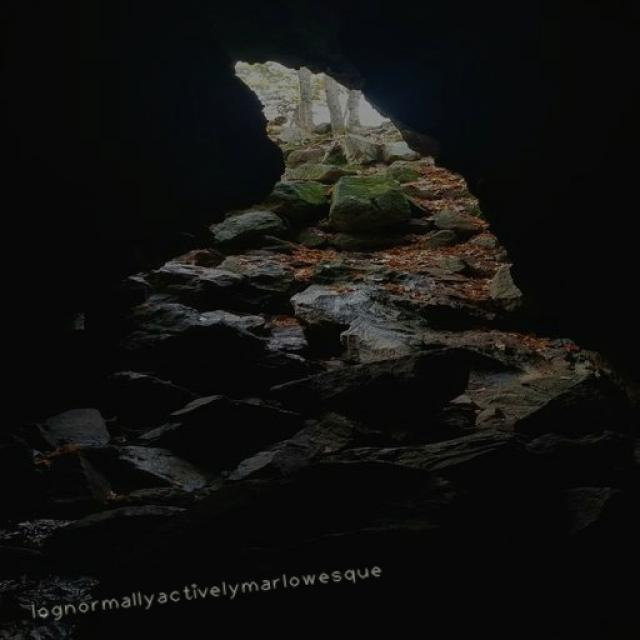watermark: (26, 560, 383, 622)
